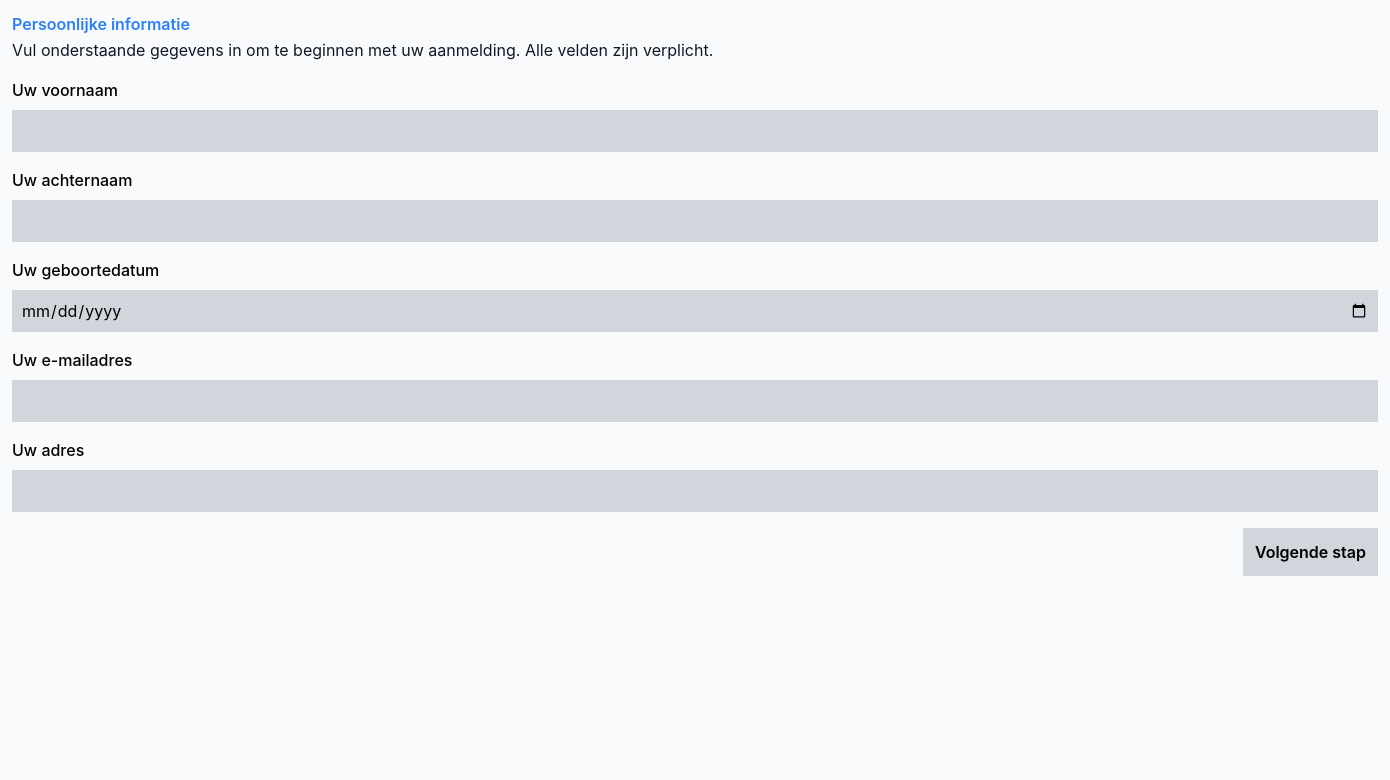
Test: PersonalInfo form integration › keeps next disabled until every field is valid
Check: the button "Volgende stap" is disabled, box [1243,528,1378,576]
Type "Jan" into the field labelled "Uw voornaam".
click(695, 131); type("Jan")  # box [12,110,1378,152]
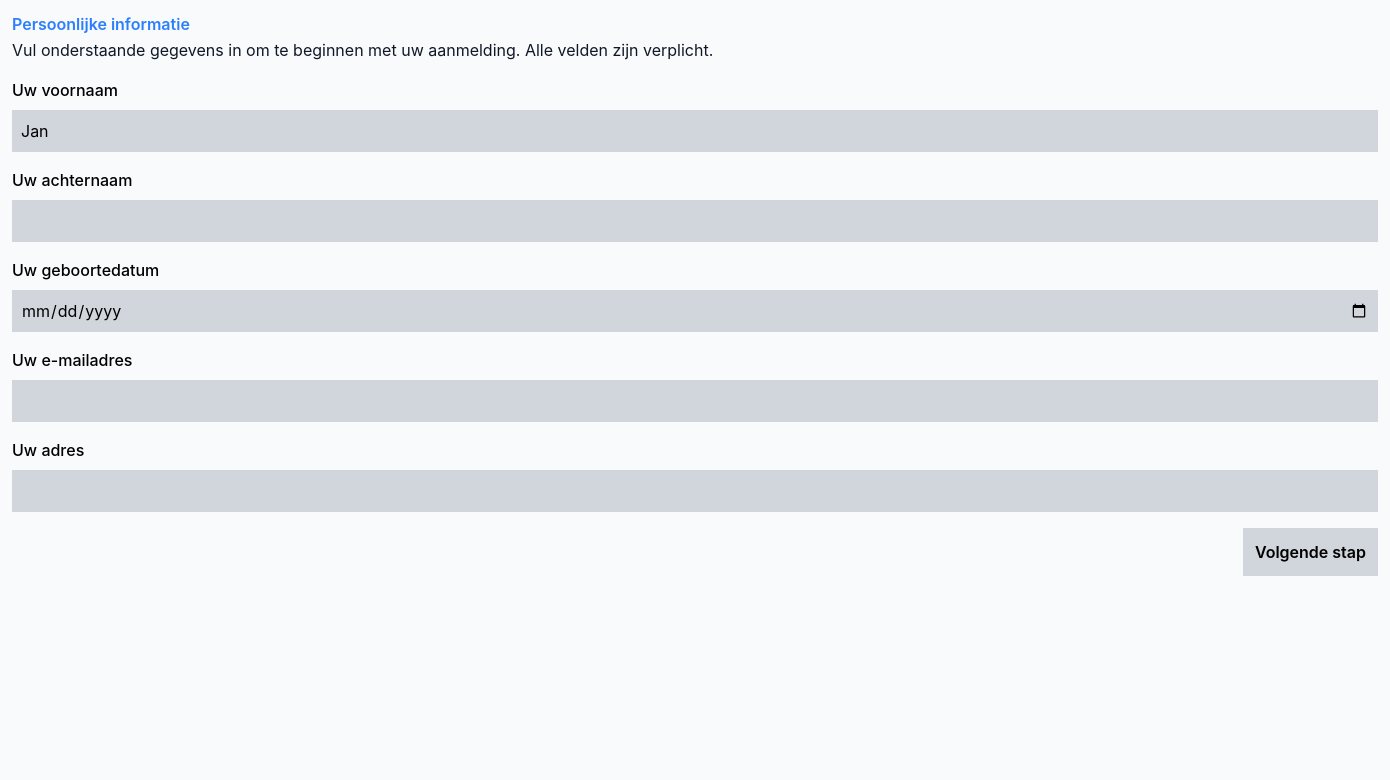
Type "Jansen" into the field labelled "Uw achternaam".
click(695, 221); type("Jansen")  # box [12,200,1378,242]
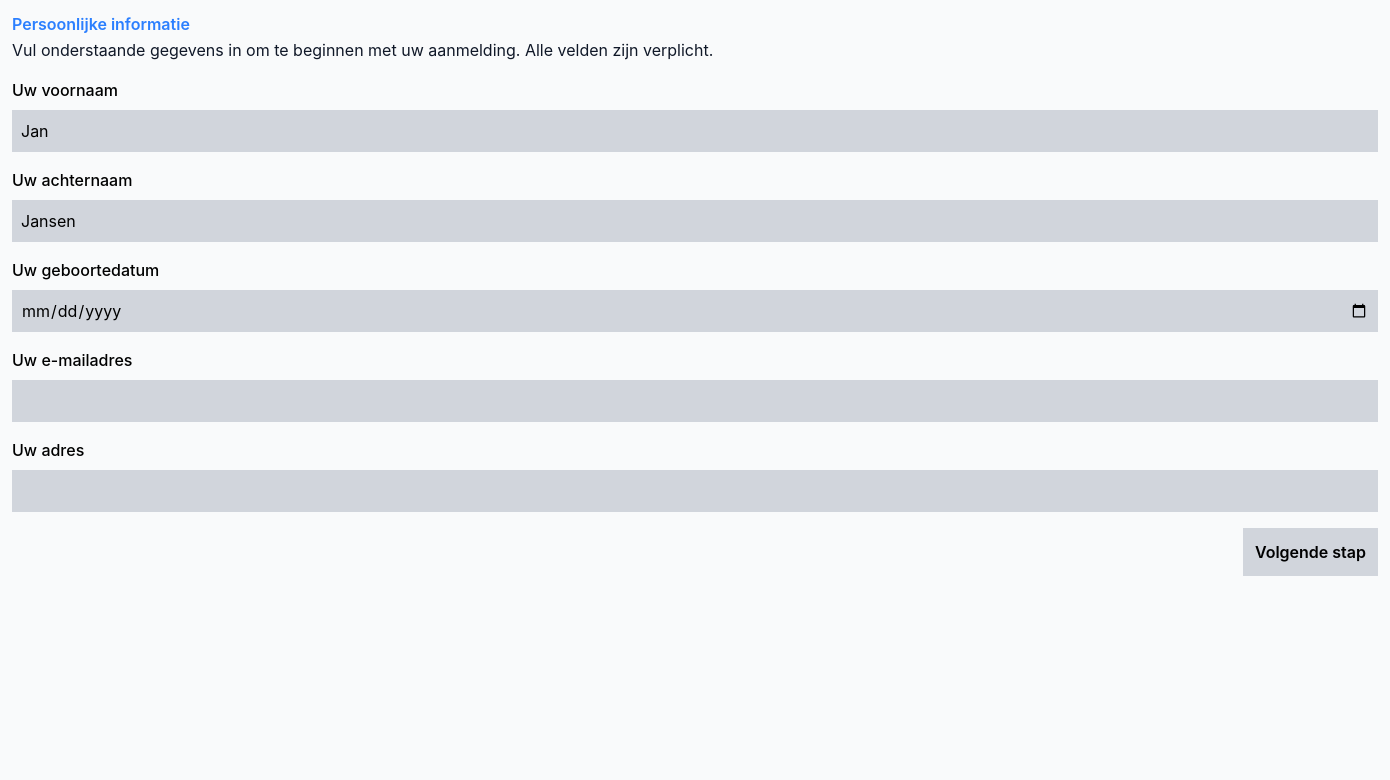
Type "1990-01-01" into the date field labelled "Uw geboortedatum".
click(695, 311); type("1990-01-01")  # box [12,290,1378,332]
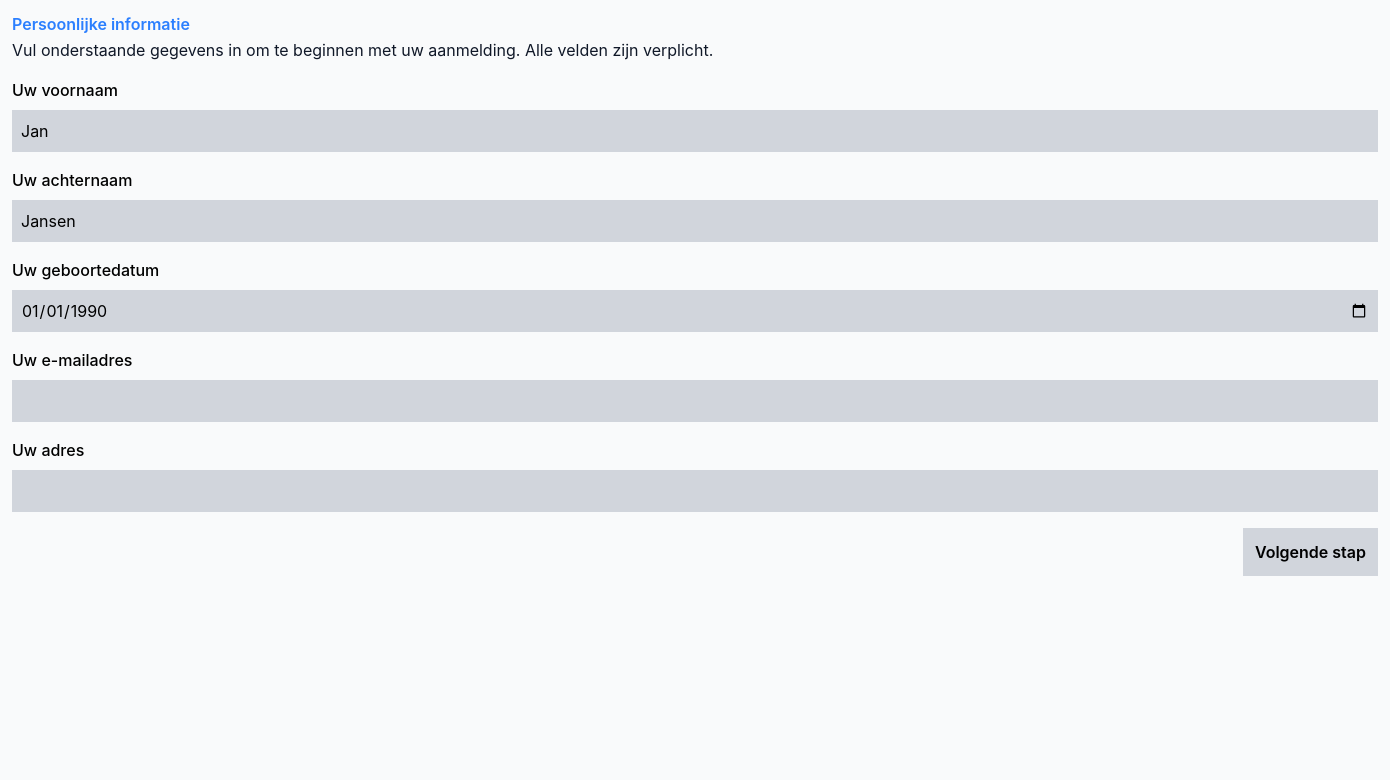
Type "jan@example.com" into the field labelled "Uw e-mailadres".
click(695, 401); type("jan@example.com")  # box [12,380,1378,422]
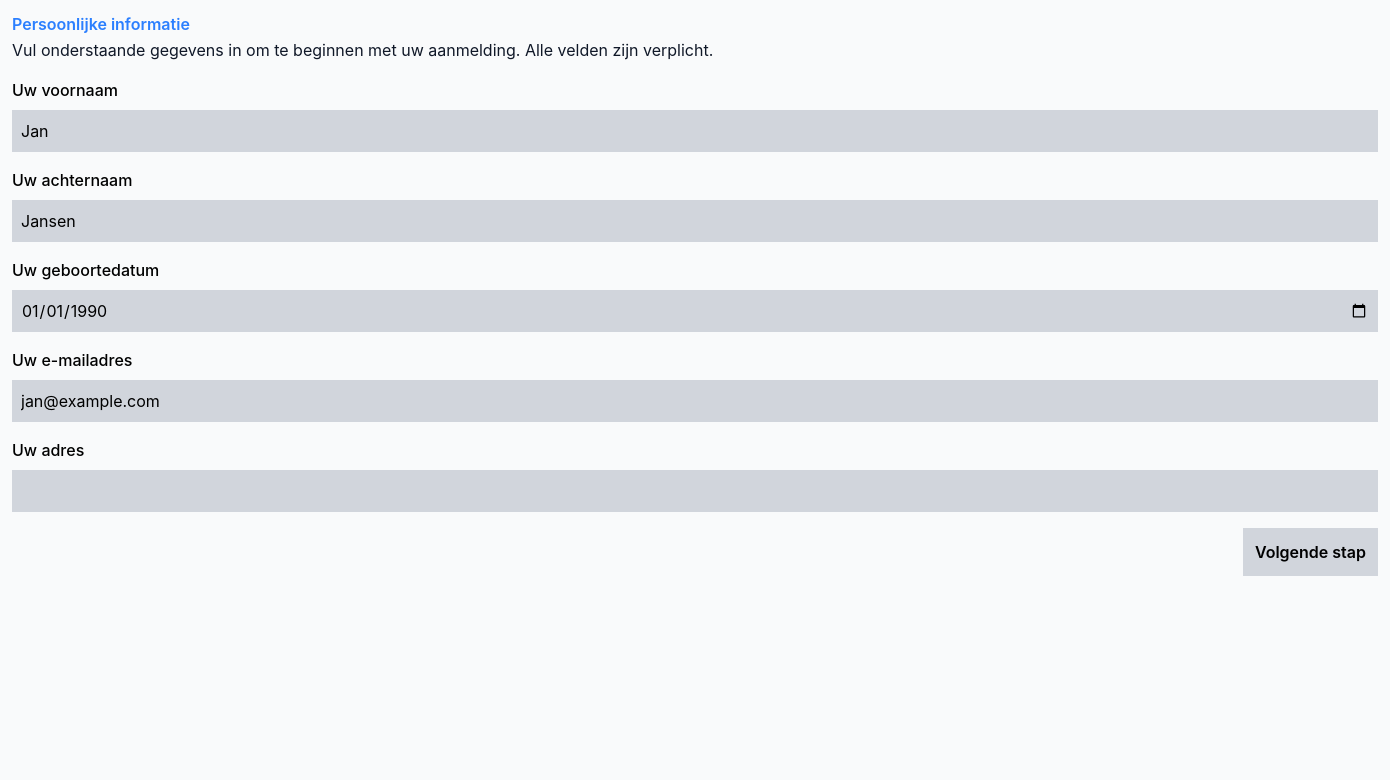
Type "Straat 1" into the field labelled "Uw adres".
click(695, 491); type("Straat 1")  # box [12,470,1378,512]
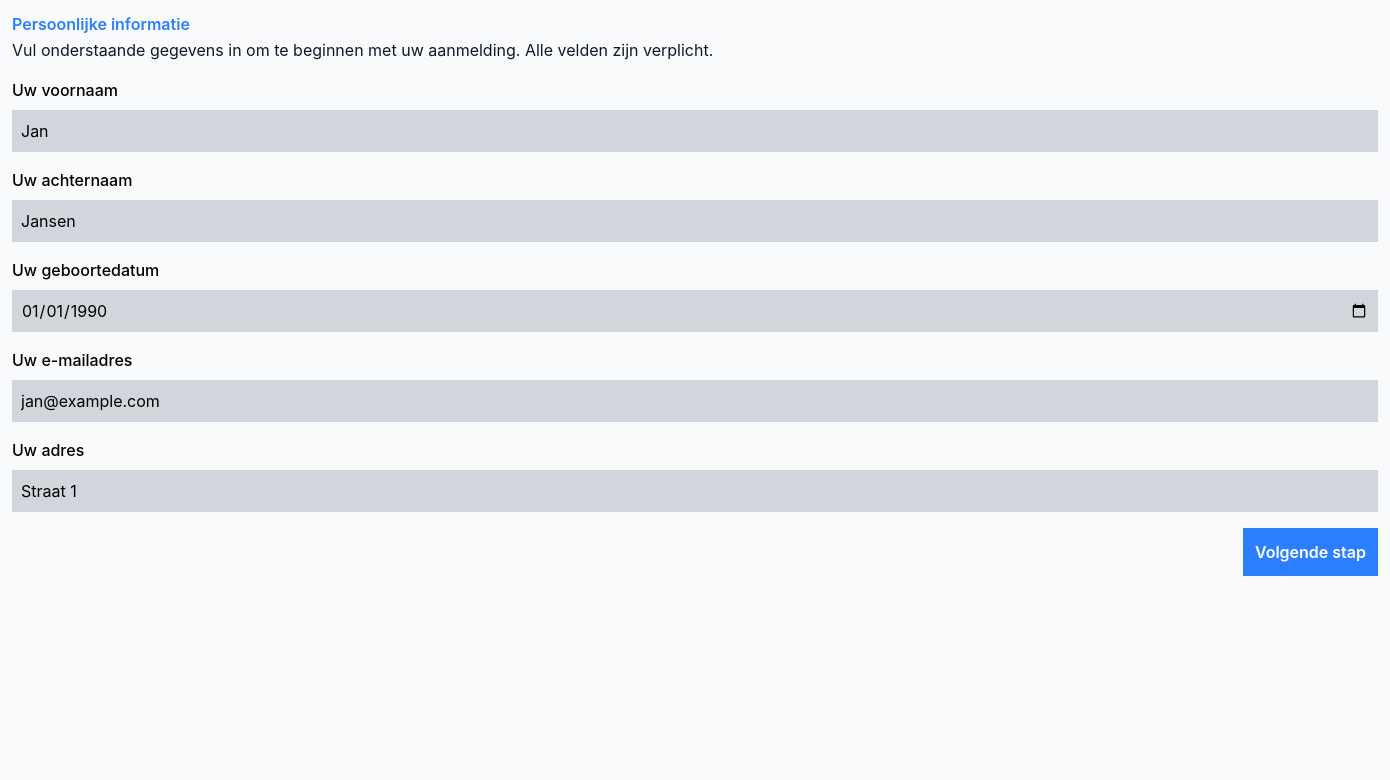
Check: the button "Volgende stap" is enabled, box [1243,528,1378,576]
